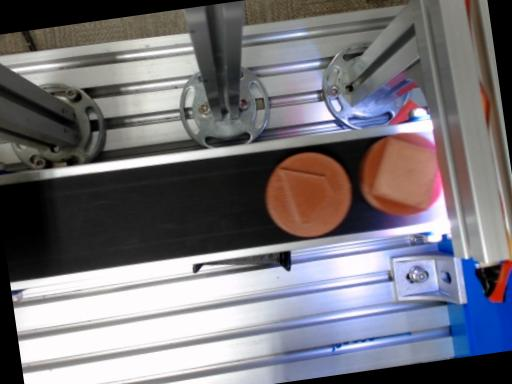Brown_Waper: (265, 152, 352, 237), (360, 133, 441, 215)
